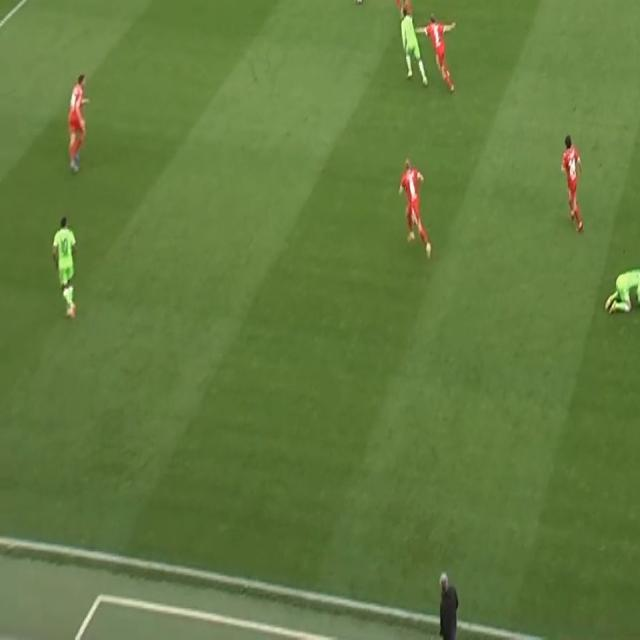ball: (354, 0, 362, 5)
